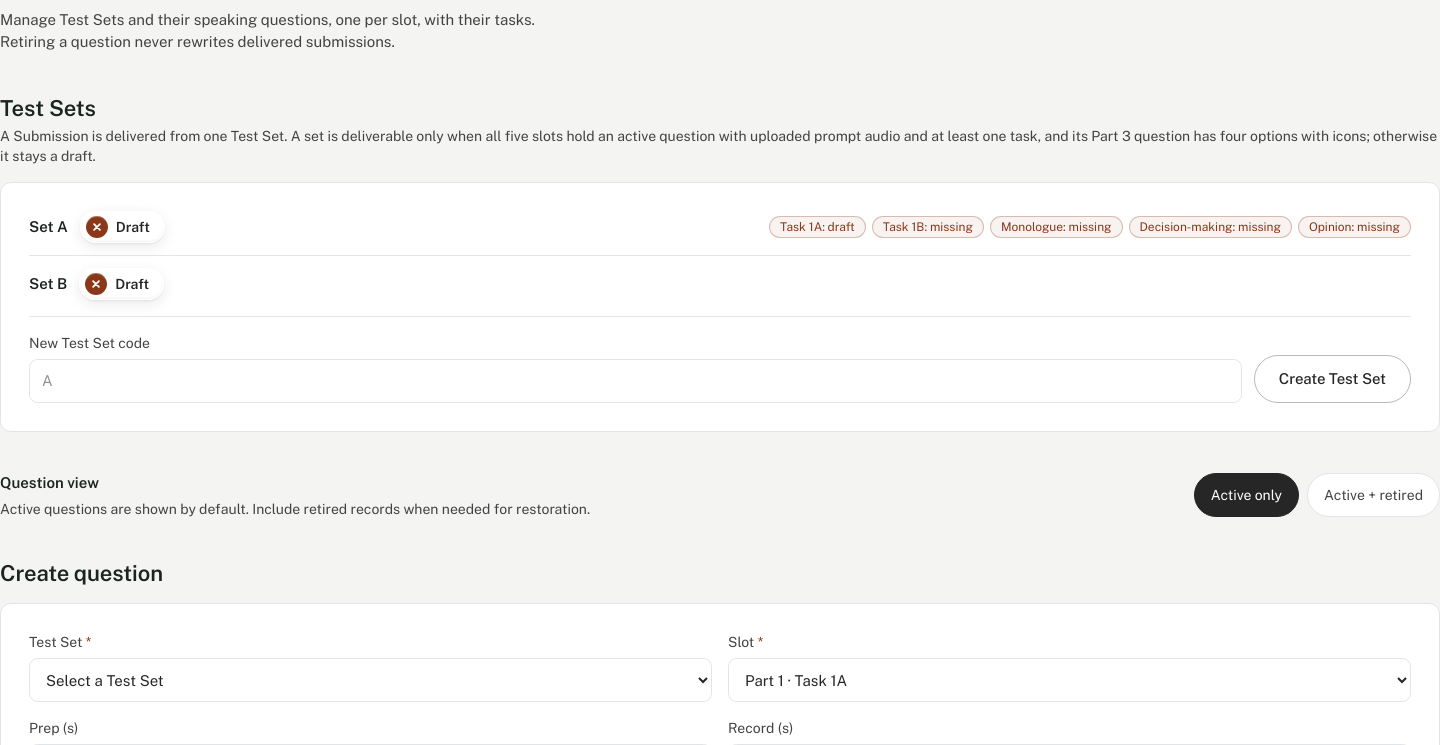
AdminQuestionsPage edit mode › loads active questions by default and exposes an explicit retired view
Click the button "Active + retired": click(1374, 495) [1307,473,1439,517]
(page scrolled)
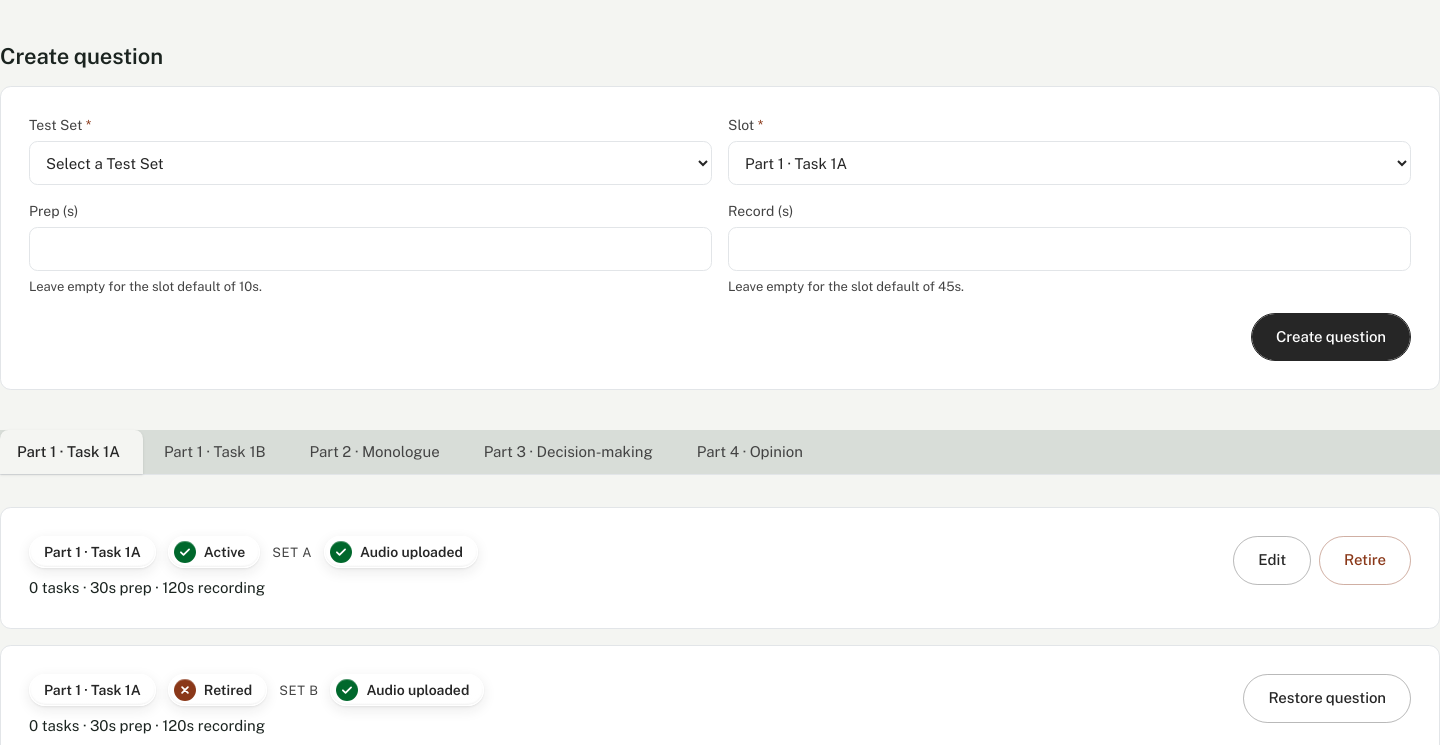
Expected: the text "Retired" is shown, [168,674,267,706]
